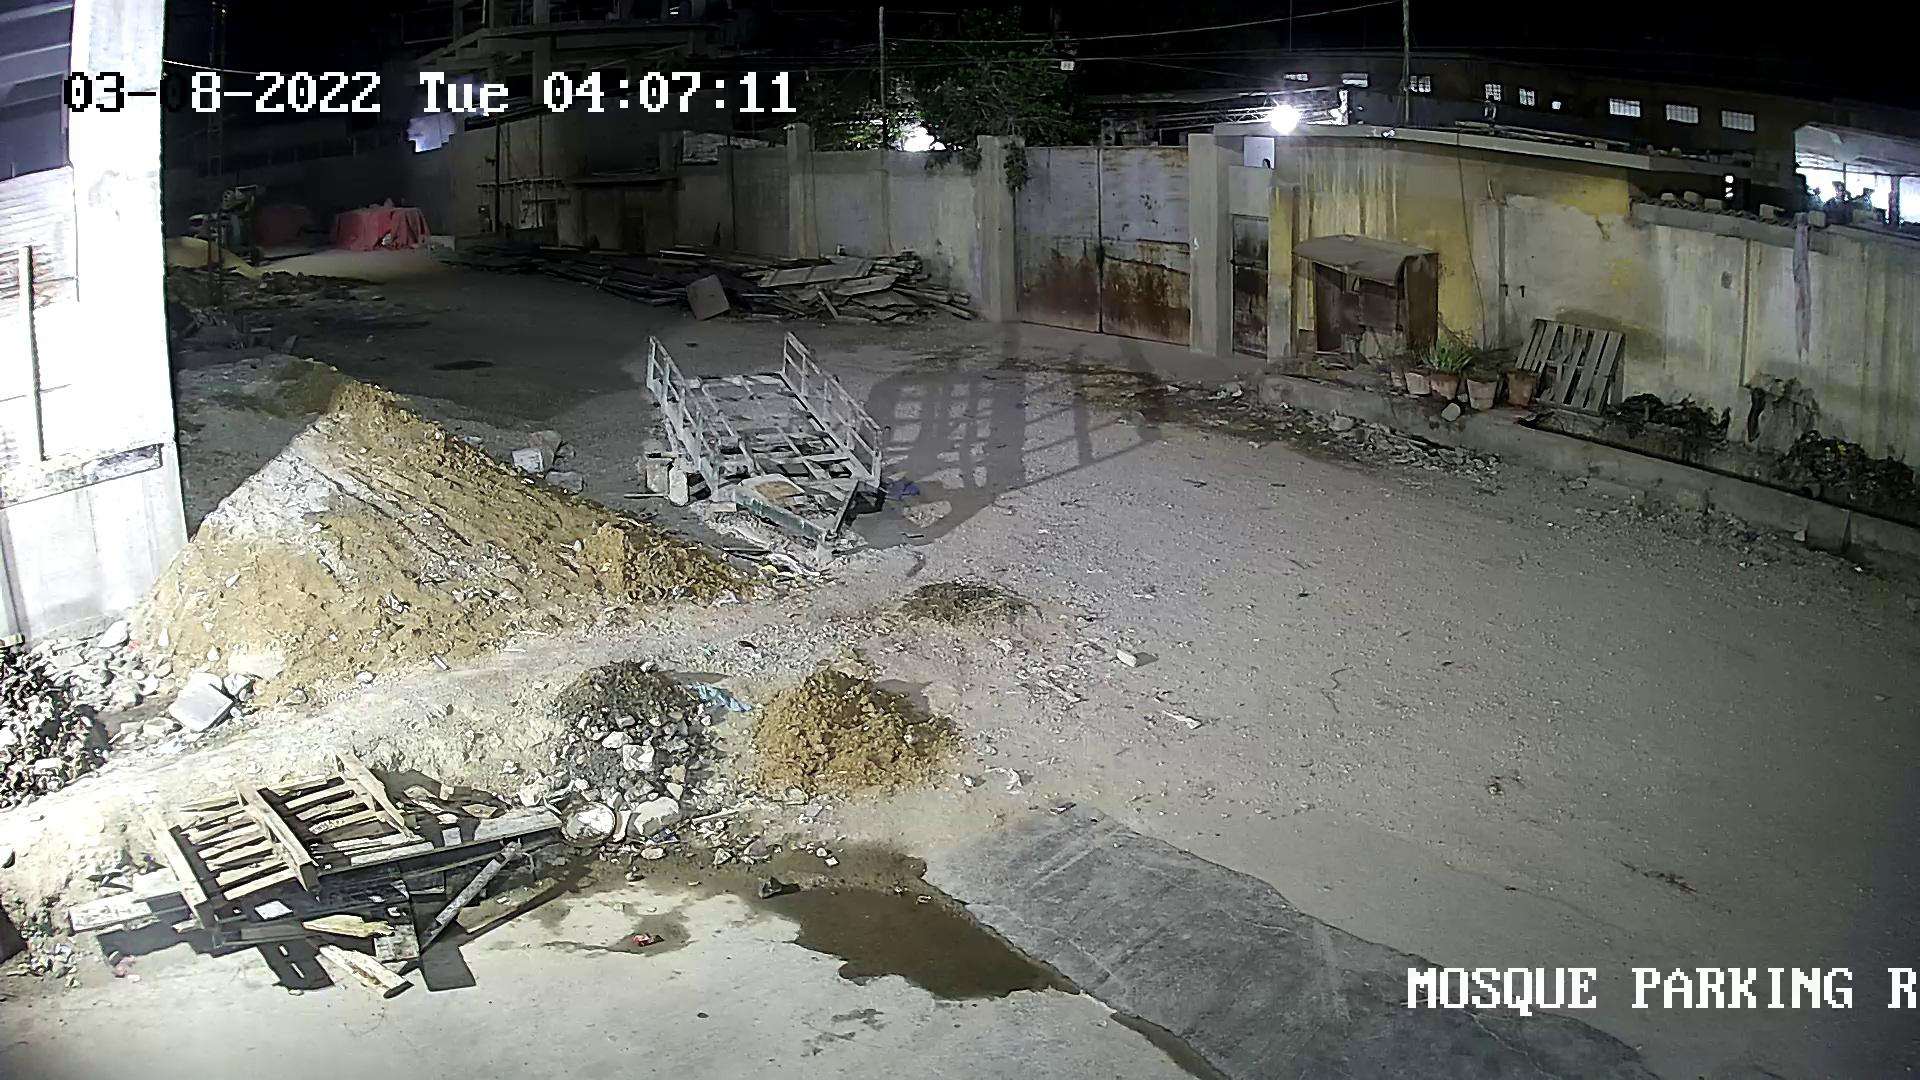other: (199, 182, 270, 262)
